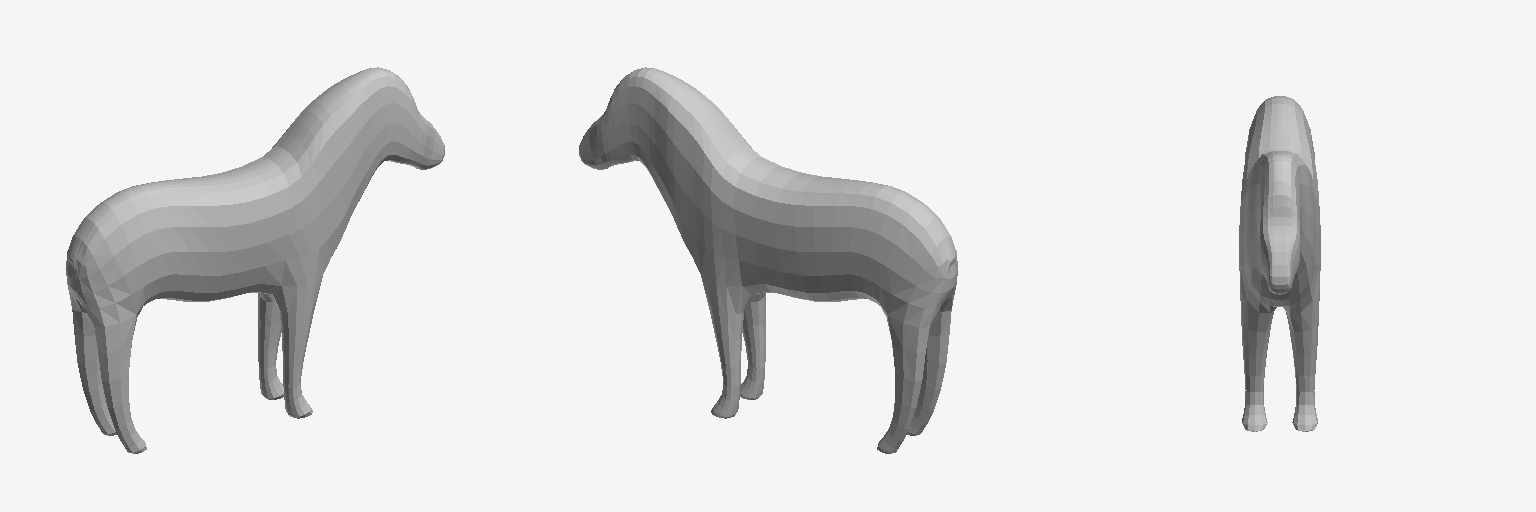
File: horse1.obj
3 views of the same model, side by side, from view 1: azimuth 30°, elevation 25°; view 2: azimuth 150°, elevation 25°; view 3: azimuth 270°, elevation 25° (orthographic).
Visible parts, largest first — view 1: Plane; view 2: Plane; view 3: Plane.
Boxes of the visible parts, box(x1,y1,x2,y2) form: Plane: box(66, 67, 444, 453); Plane: box(579, 67, 957, 453); Plane: box(1239, 96, 1320, 431).
Bounding box in the file's own units: 2.89 × 2.35 × 0.5527.